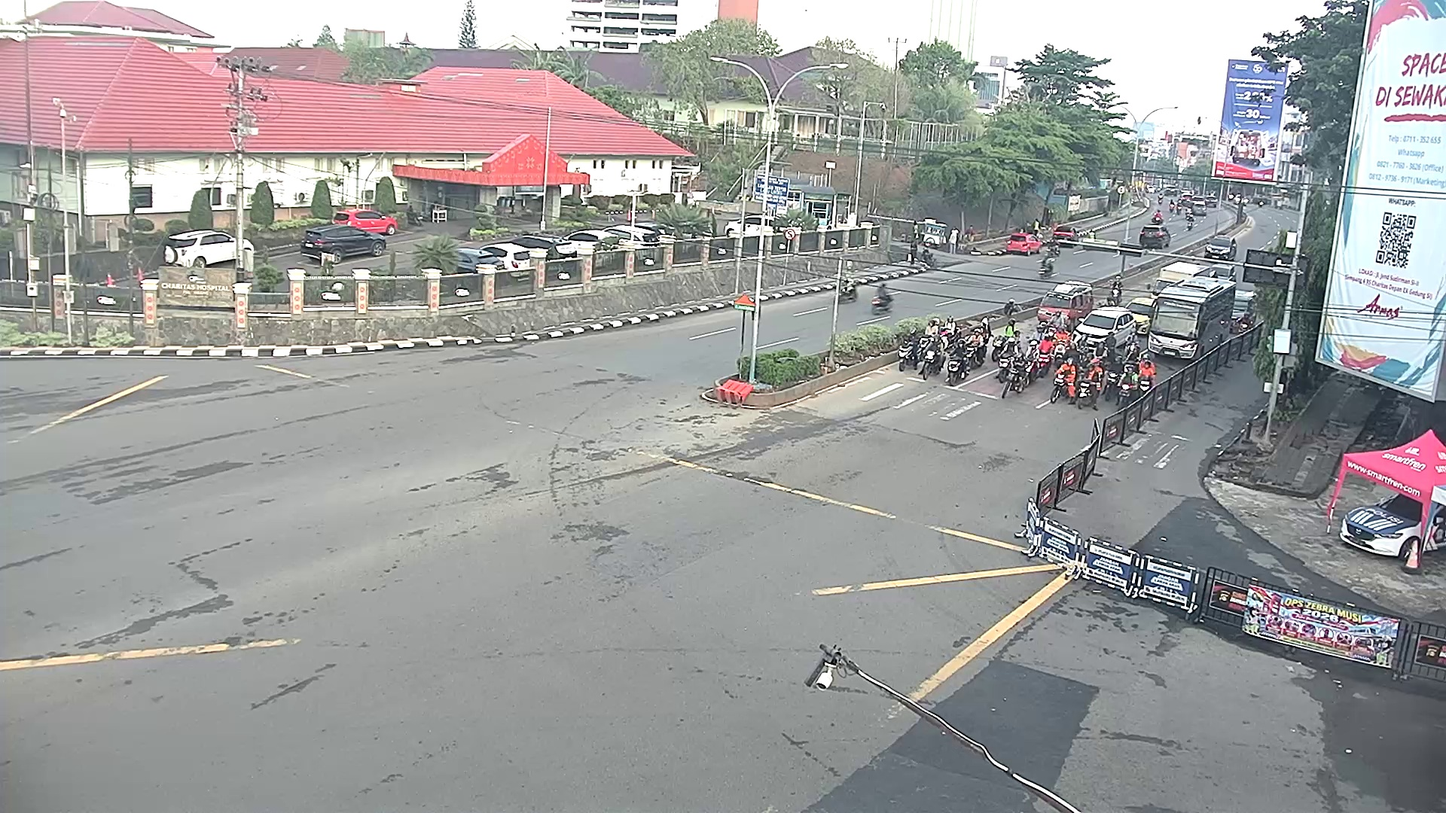Emperan: (1323, 427, 1446, 567)
